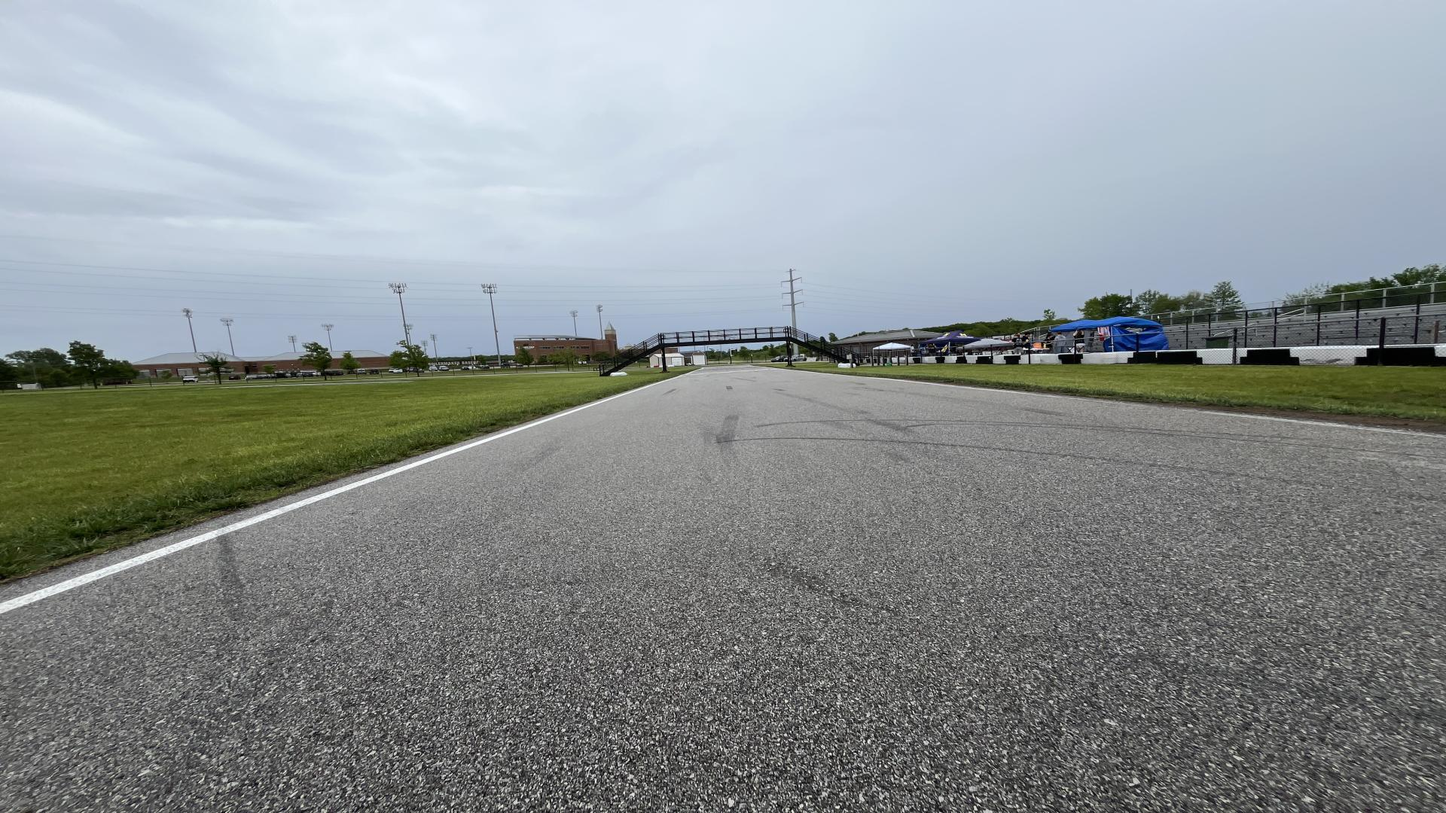white-line: (0, 376, 682, 615), (781, 369, 1445, 437), (686, 368, 702, 374), (753, 367, 776, 369)
